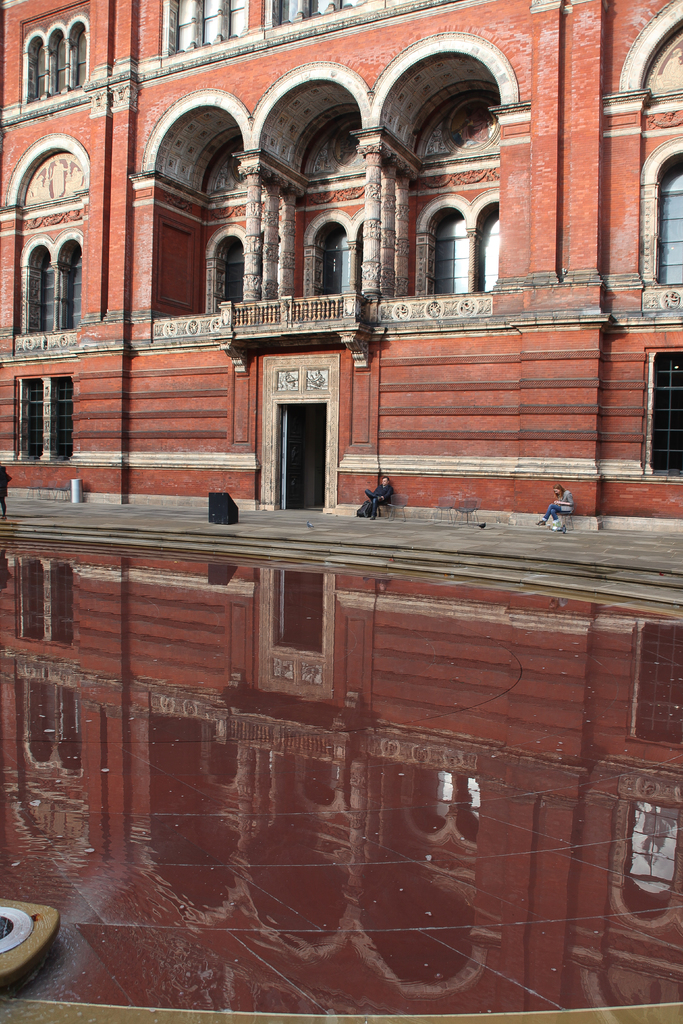Door: (274, 376, 331, 513)
